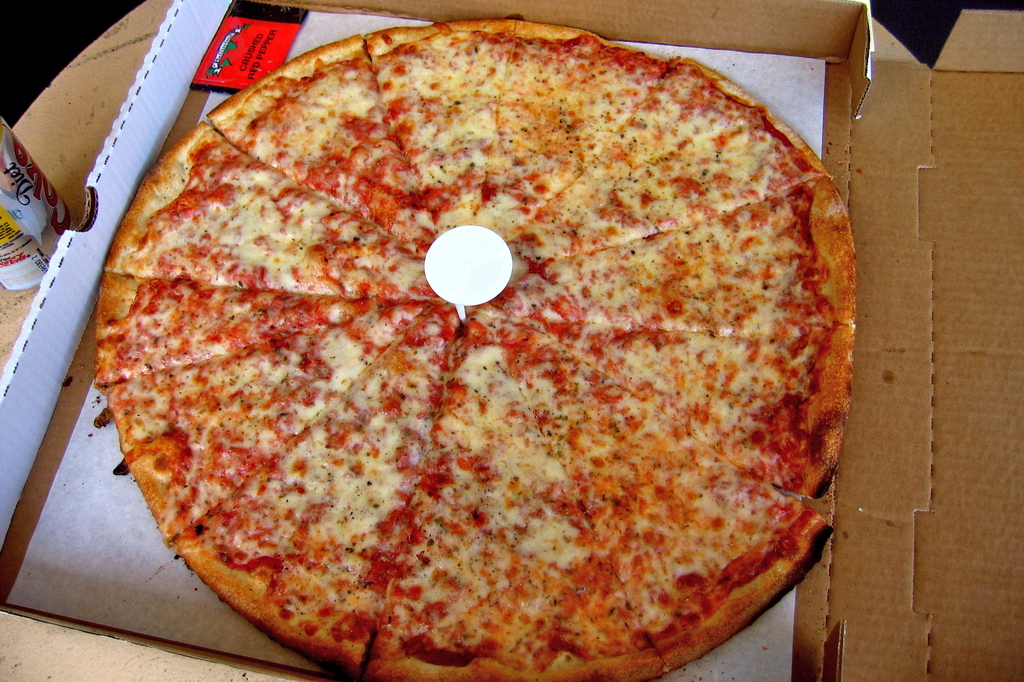Pizza: (91, 19, 858, 681)
